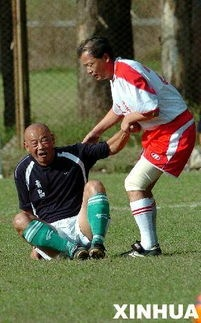falling: (8, 110, 130, 268)
